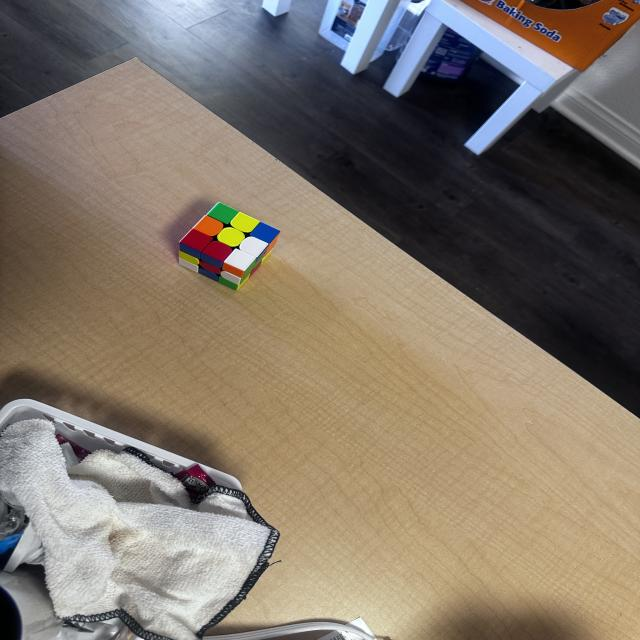sticker: (222, 248, 257, 275), (180, 229, 213, 254), (200, 241, 232, 264), (207, 202, 239, 225), (238, 235, 269, 257), (194, 215, 224, 237), (250, 222, 280, 244), (230, 212, 259, 233), (217, 227, 245, 247)
